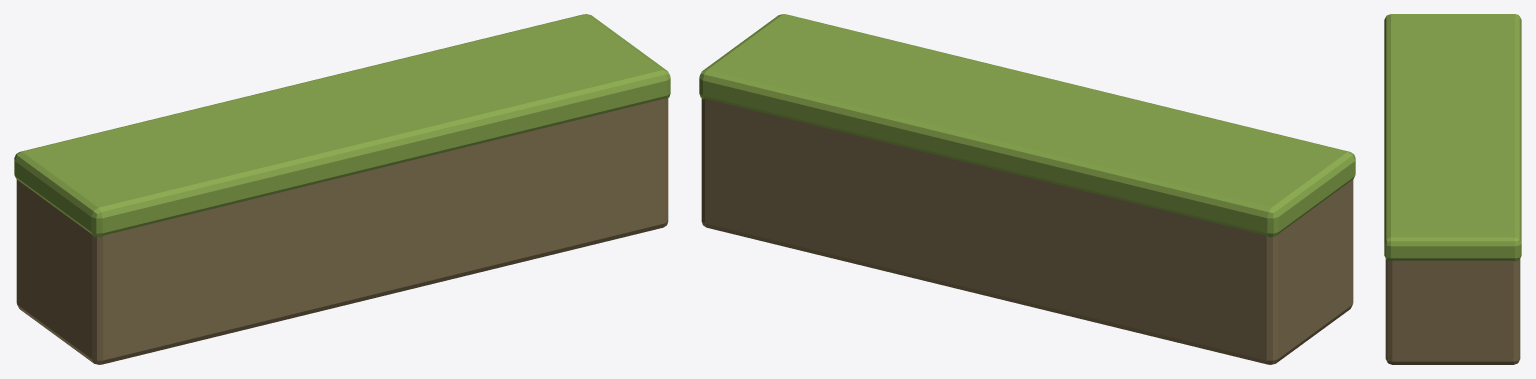
Rendered from SM_Platform_1m_03_A.fbx.
The picture shows the model from 3 angles, left to right: view 1: azimuth 30°, elevation 25°; view 2: azimuth 150°, elevation 25°; view 3: azimuth 270°, elevation 25°; orthographic projection. The views are drawn at different scales.
Parts seen in each view (by area): view 1: polySurface79; view 2: polySurface79; view 3: polySurface79.
Boxes of the visible parts, bbox=[...] form: polySurface79: bbox=[14, 14, 670, 364]; polySurface79: bbox=[699, 14, 1355, 364]; polySurface79: bbox=[1384, 14, 1521, 364].
Bounding box in the file's own units: 402 × 105 × 102.
